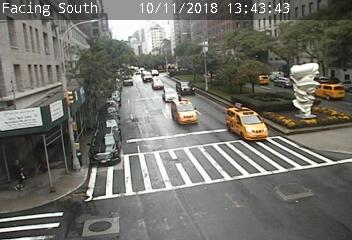car: (226, 107, 269, 142), (89, 127, 121, 166), (172, 98, 198, 125), (311, 84, 345, 100), (176, 81, 196, 95), (162, 88, 179, 102), (273, 77, 294, 88), (250, 75, 269, 85), (152, 79, 164, 89)
